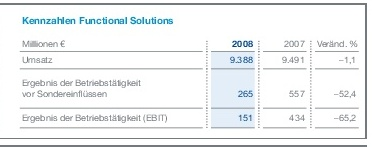table: (0, 0, 372, 147)
